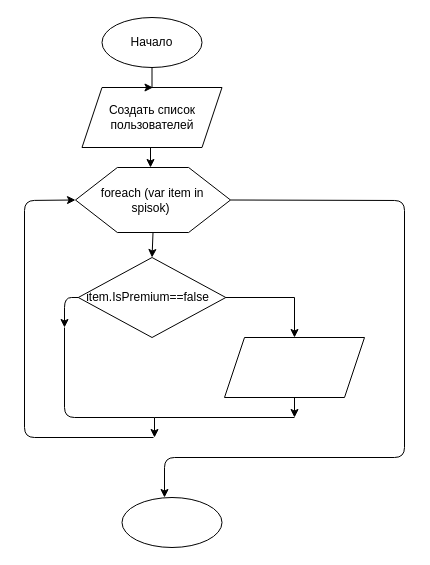
Some shapes in this 430 by 565 pixel diagram are drawn without their labels. Here are the shapes that lost their labels. From the top down, the centre of each, then its label:
(x=294, y=367): показ рекламы с помощью вызова метода ShowAds
(x=171, y=522): Конец
